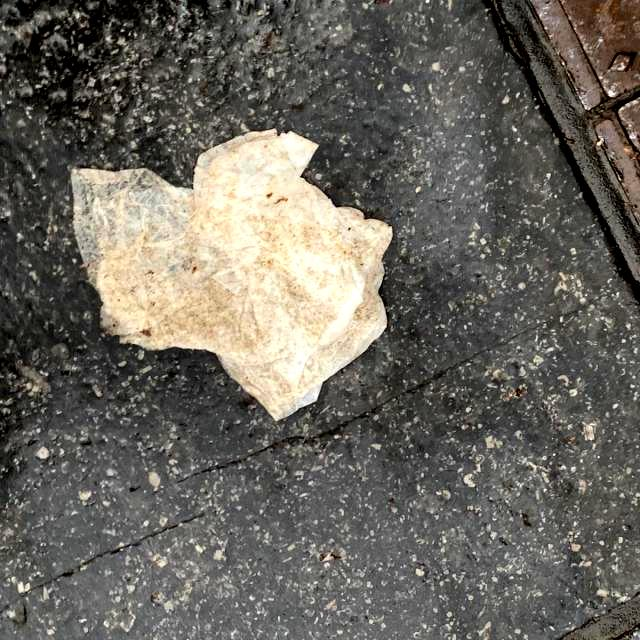Paper: (68, 125, 396, 425)
